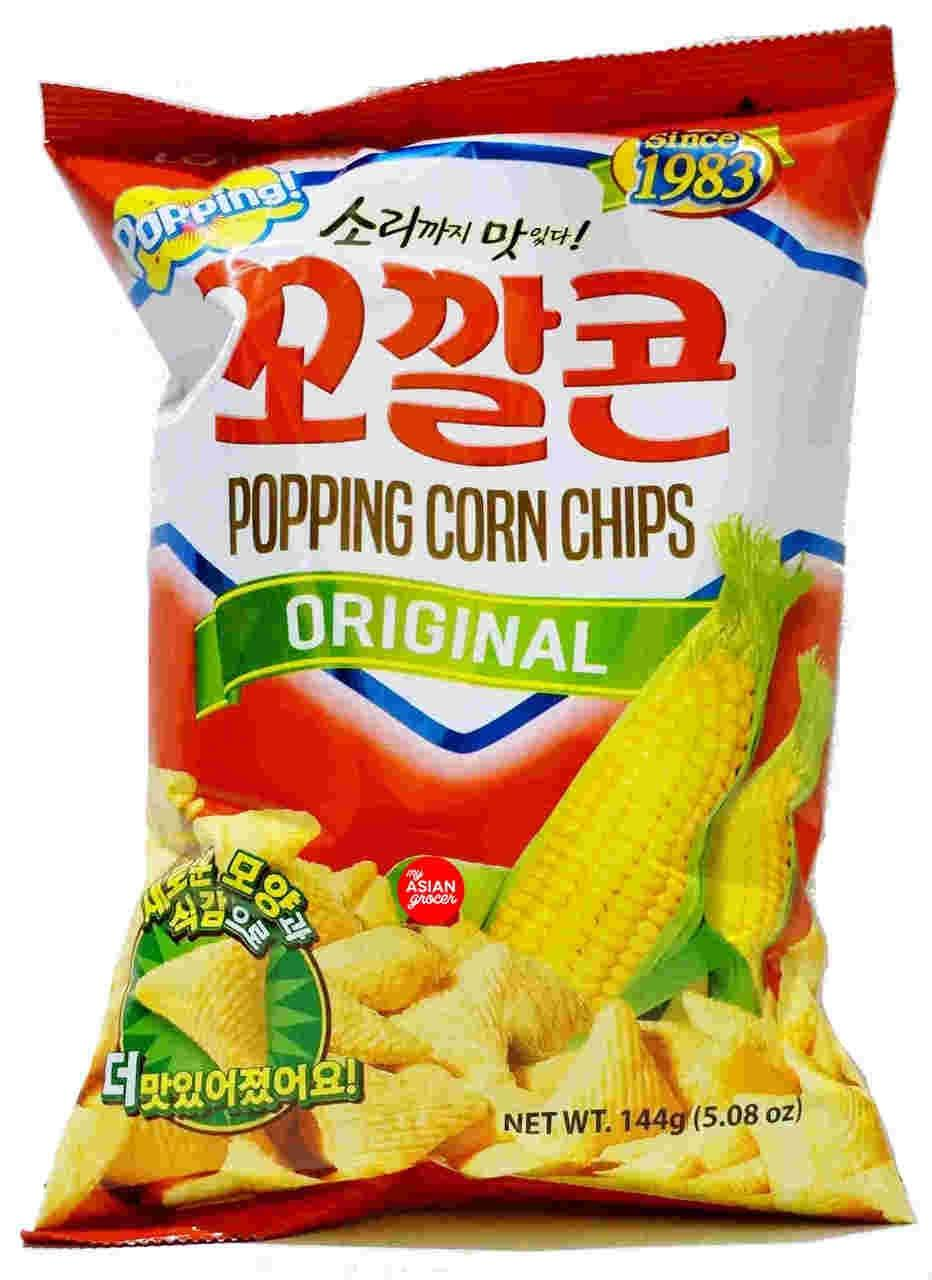snack: (16, 20, 923, 1246)
